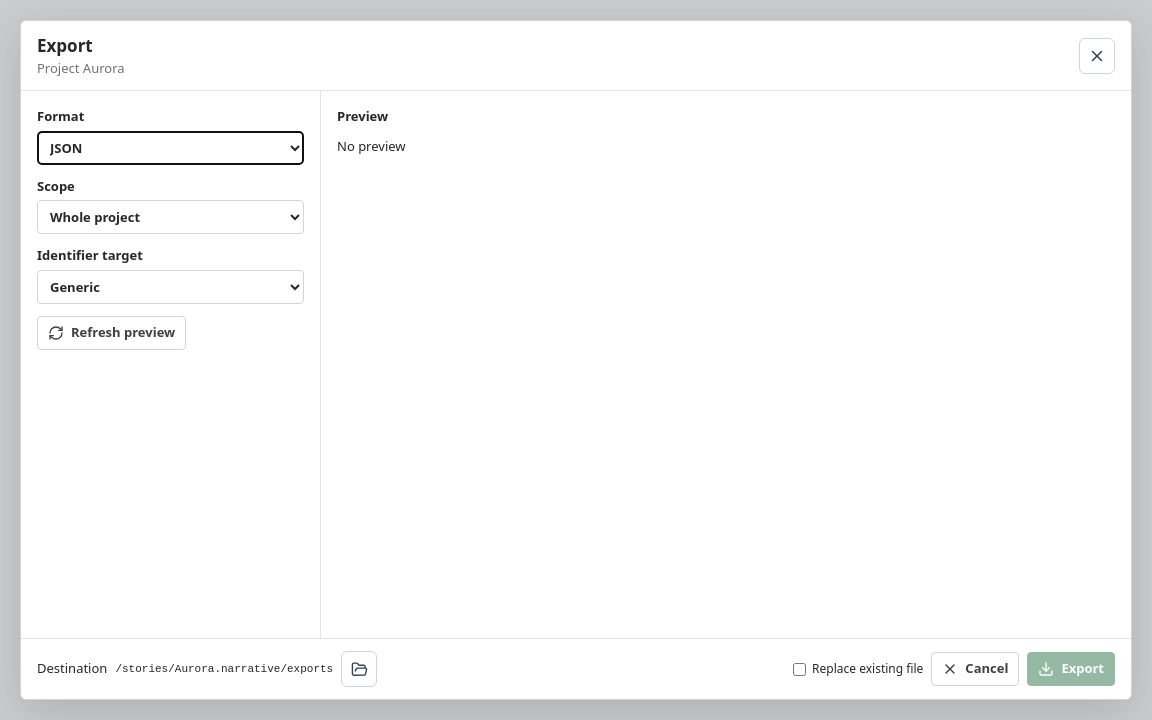
ExportWorkspace › shows blocking diagnostics and omissions without raw message keys
The image size is (1152, 720).
Click the button "Refresh preview" at {"x": 112, "y": 332}, box left=37, top=316, right=186, bottom=350
(page scrolled)
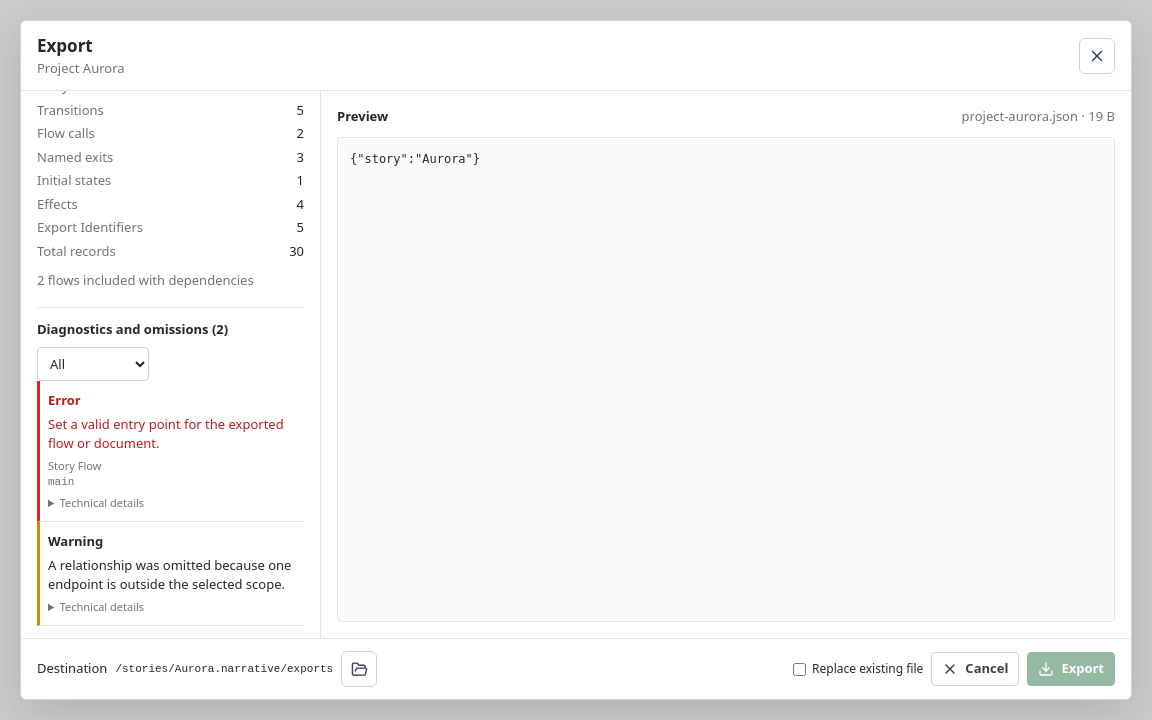
Expected: the button "Export" is disabled, left=1027, top=652, right=1115, bottom=686
Expected: the text "Set a valid entry point for the exported flow or document." is shown, left=48, top=414, right=304, bottom=454
Select "Warning" in the dropdown named "Severity" at {"x": 93, "y": 364}, box left=37, top=347, right=149, bottom=381
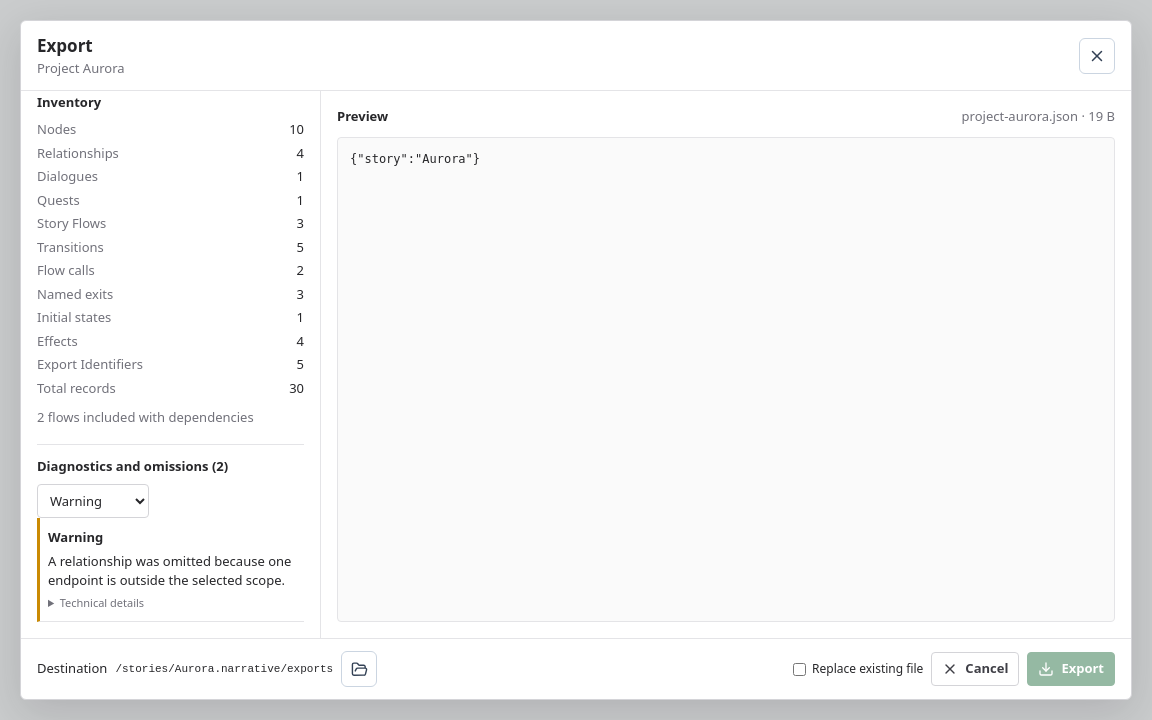
Expected: the element "Diagnostics and omissions" does not show "export.diagnostic.", left=37, top=444, right=304, bottom=622
Expected: the text "Set a valid entry point" is gone
